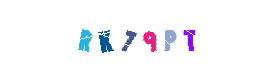7: (100, 0, 180, 80)
9: (110, 0, 190, 80)
K: (74, 0, 154, 80)
P: (116, 0, 196, 80)
R: (45, 0, 125, 80)
T: (150, 0, 230, 80)
